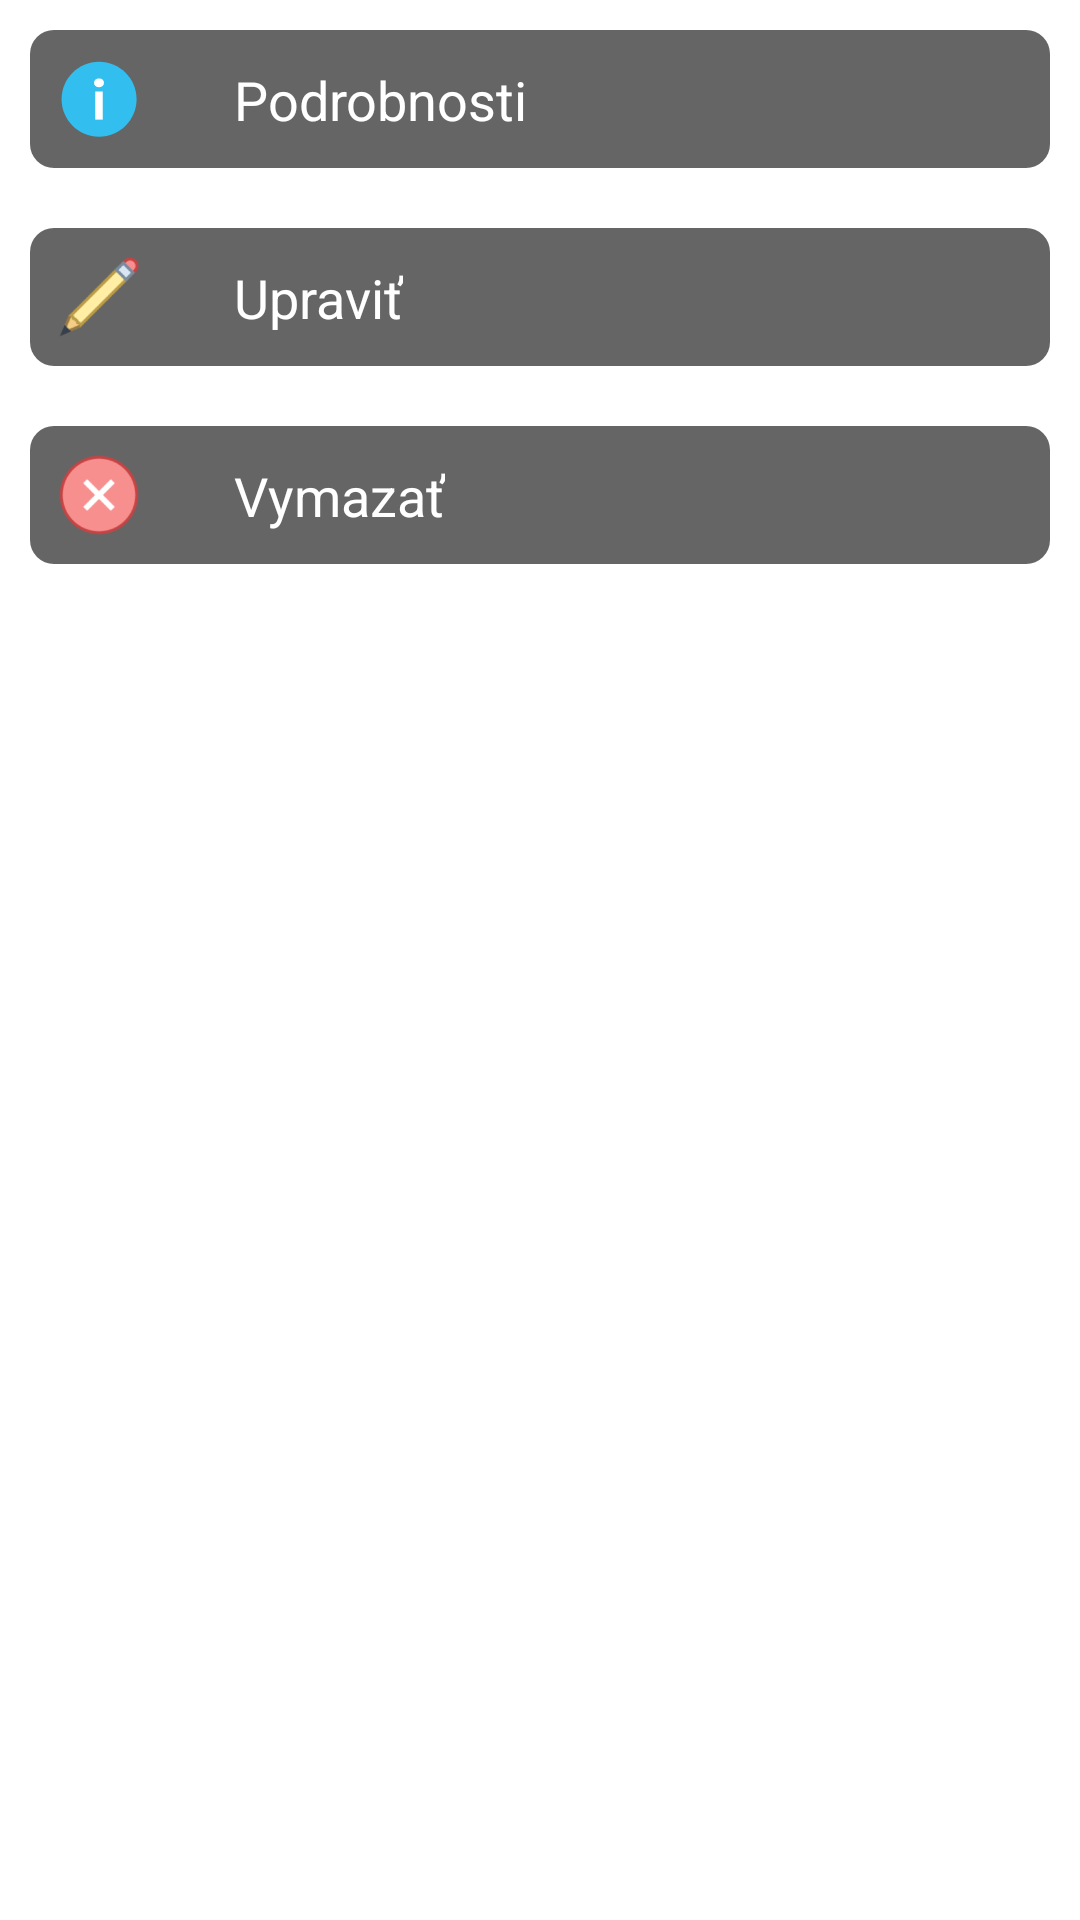

Point at icon controls on the screen. Image size 1080 × 1920, points as (x,y).
edit: (100,296)
error: (99,495)
info: (99,99)
